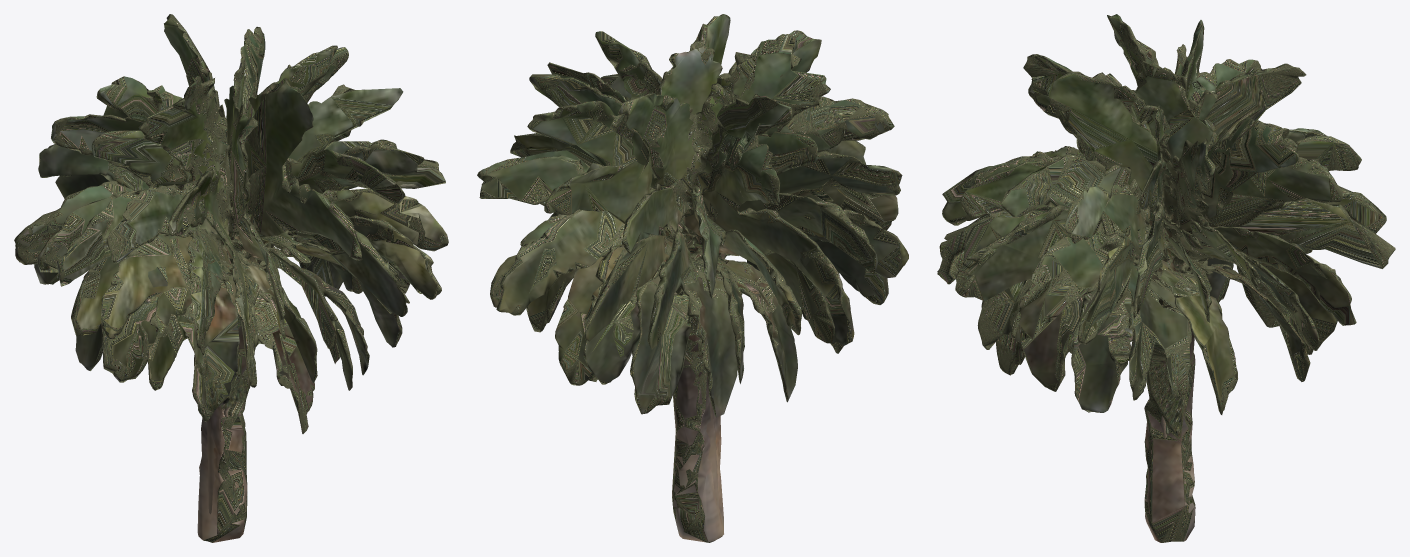
The model's file is palm__date-palm-sutensaket.glb.
3 views of the same model, side by side, from view 1: azimuth 30°, elevation 25°; view 2: azimuth 150°, elevation 25°; view 3: azimuth 270°, elevation 25° (orthographic).
Bounding box in the file's own units: 1.6 × 1.99 × 1.67.
Materials: 1 (1 with a texture image).
